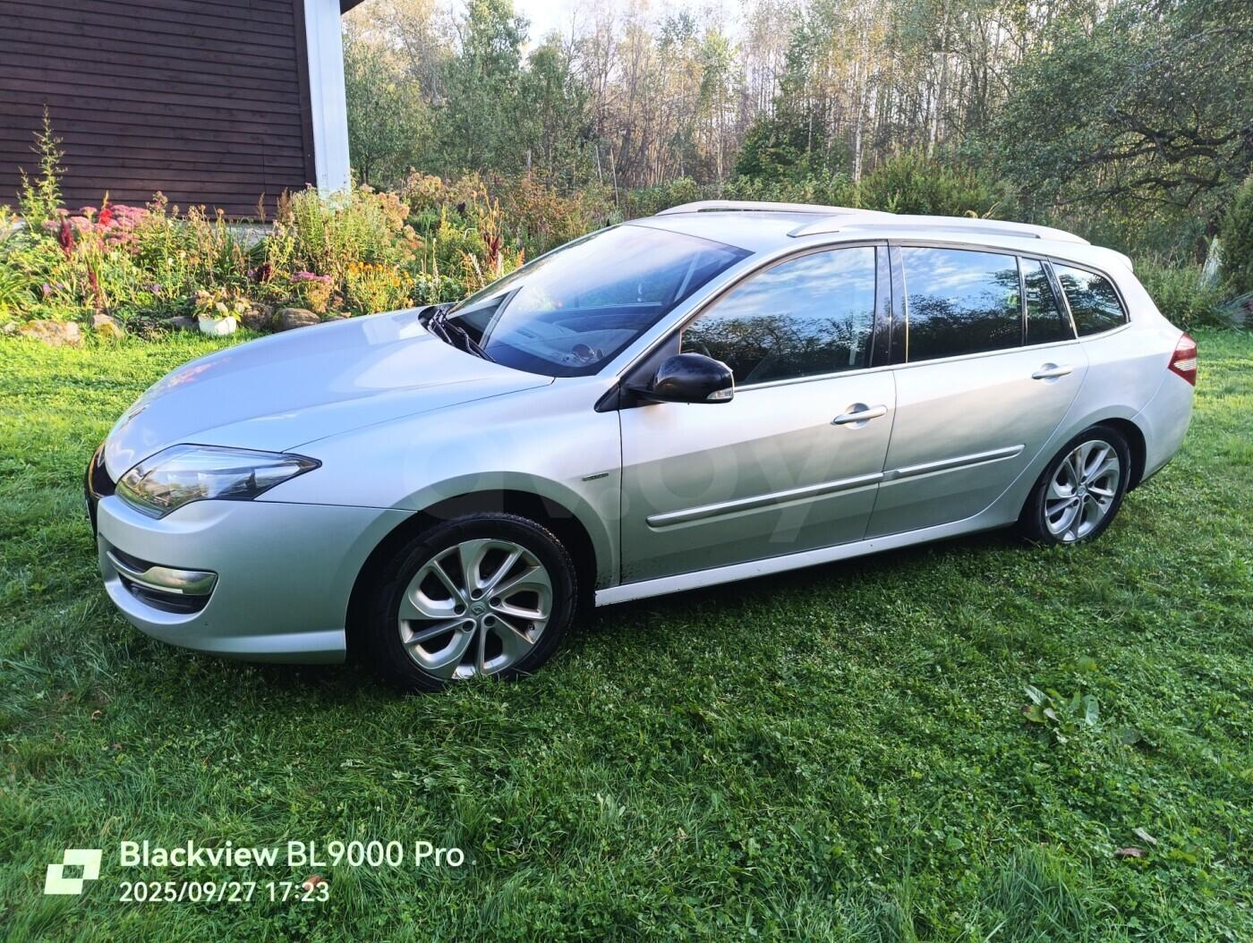Laguna_2010-2015: (81, 176, 1224, 704)
